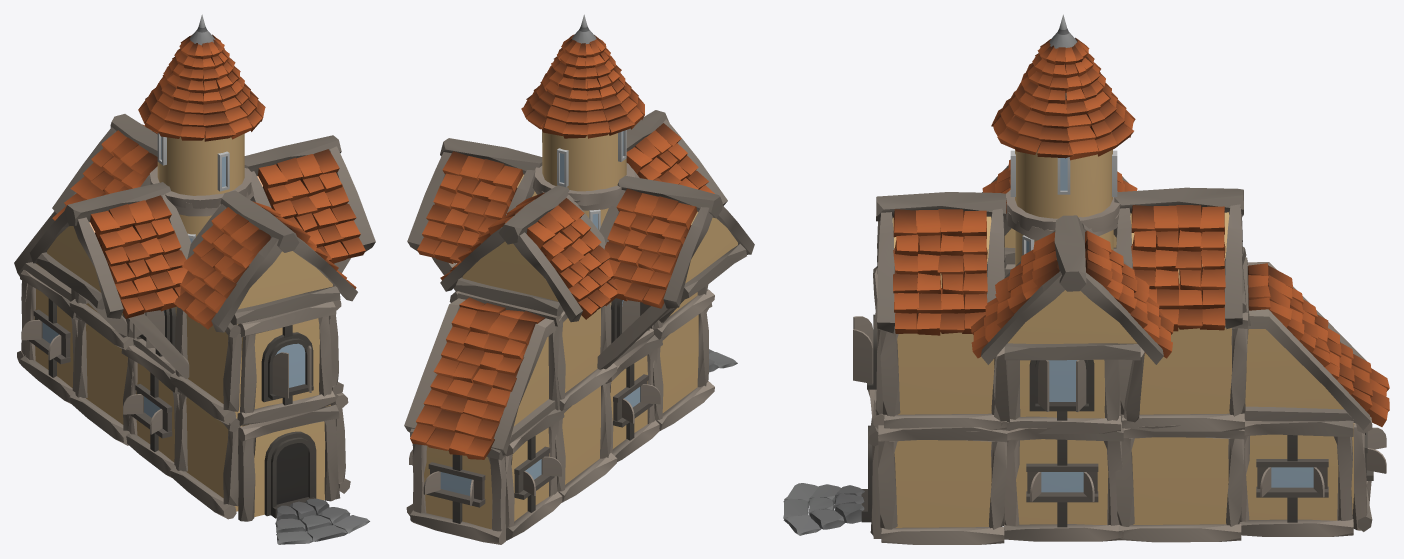
File: mini_building3.fbx
3 renders of one model, left to right at view 1: azimuth 30°, elevation 25°; view 2: azimuth 150°, elevation 25°; view 3: azimuth 270°, elevation 25°, orthographic. The views are drawn at different scales.
Parts seen in each view (by area): view 1: mini_building3; view 2: mini_building3; view 3: mini_building3.
Part boxes in pixels (x1,y1,x2,y2): mini_building3: [14, 14, 375, 544]; mini_building3: [404, 14, 754, 544]; mini_building3: [783, 14, 1389, 544].
Bounding box in the file's own units: 14.7 × 22.32 × 24.8.
